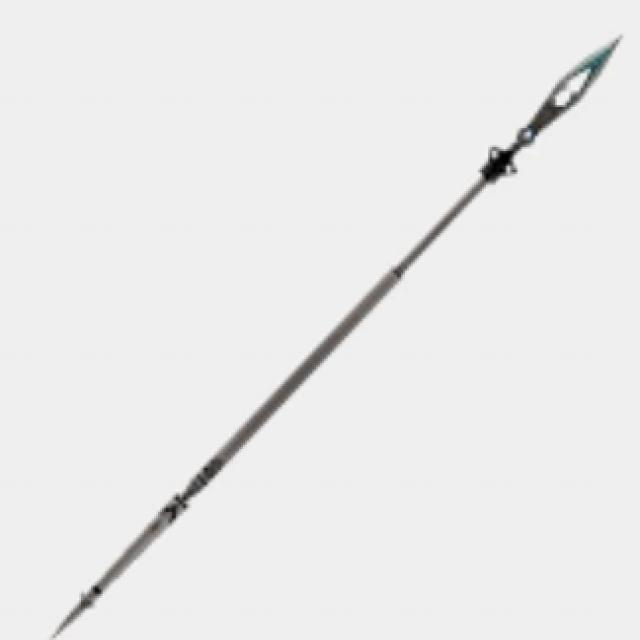spear: (26, 12, 628, 640)
